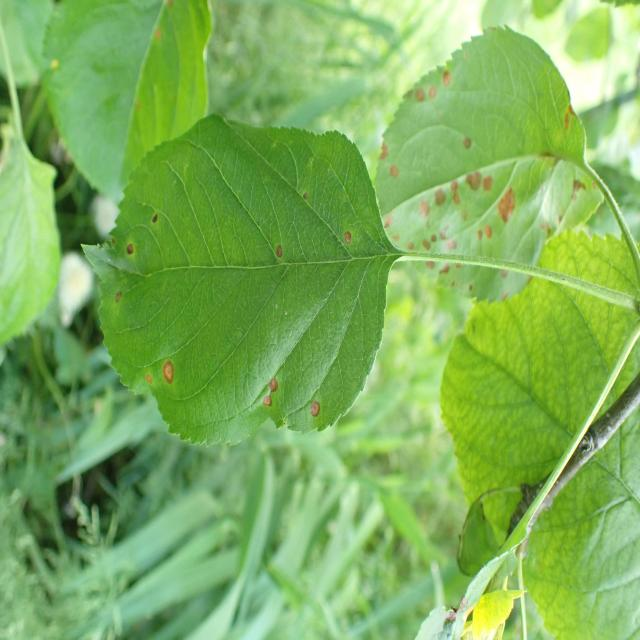Black Rot: (363, 40, 616, 304), (256, 350, 288, 438), (261, 232, 290, 278), (102, 283, 134, 324), (139, 197, 167, 235), (119, 236, 146, 271), (301, 386, 324, 426), (163, 350, 180, 399), (343, 217, 358, 260), (145, 372, 156, 402)
